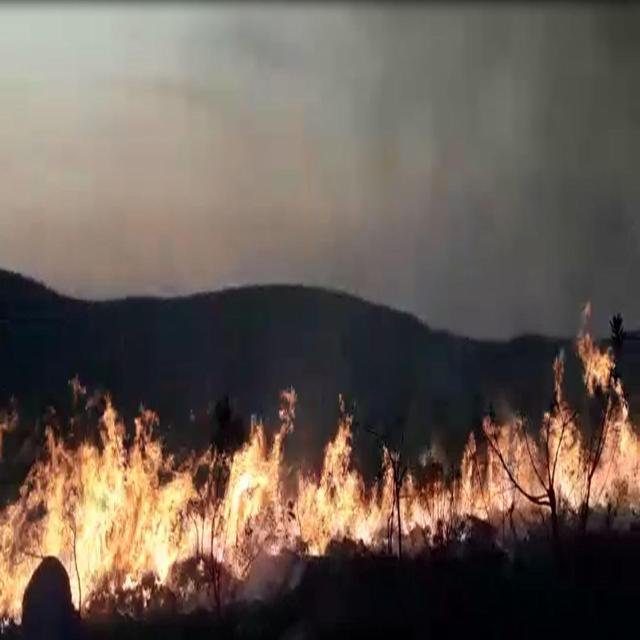fire: (3, 309, 637, 633)
